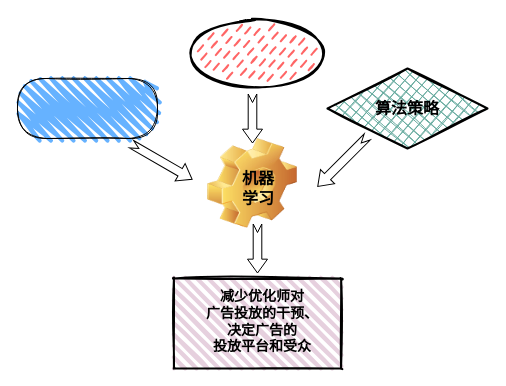
This 506x386 diagram has some shape labels left out. Here are the shapes that lost their labels. From the top down, the centre of each, then its label:
the point at 257,53: 广告商品信息
the point at 87,108: 大量的用户 行为数据
